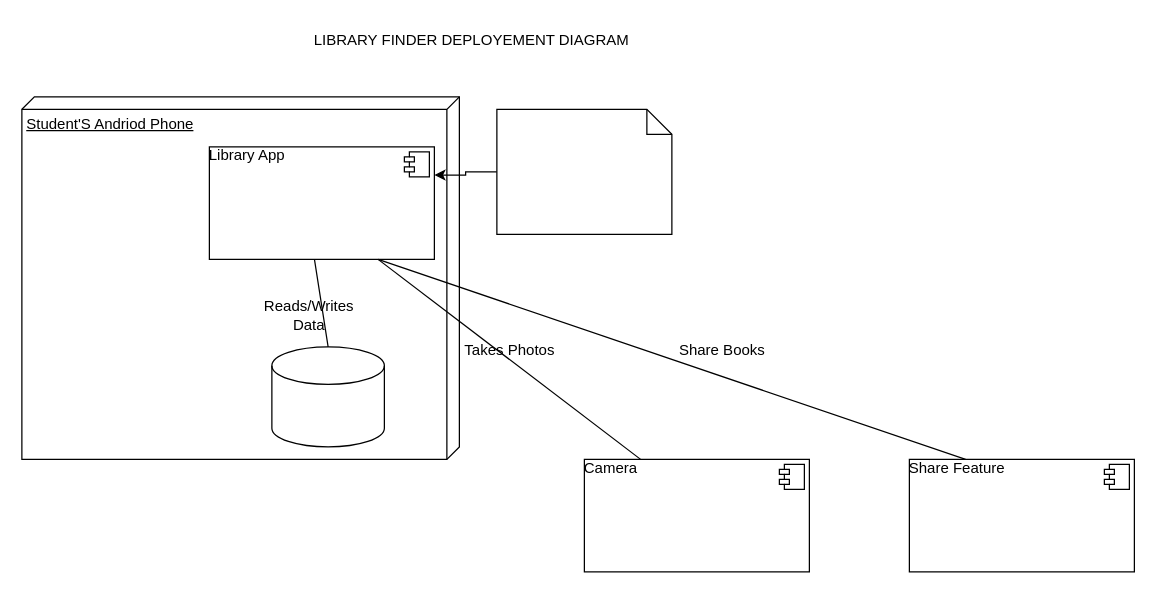
This 1156x594 diagram has some shape labels left out. Here are the shapes that lost their labels. From the top down, the centre of each, then its label:
At (584,171): "Built with - Java - Room Database - MVC Patterns - Offine First".
At (327,396): "Local Database".
